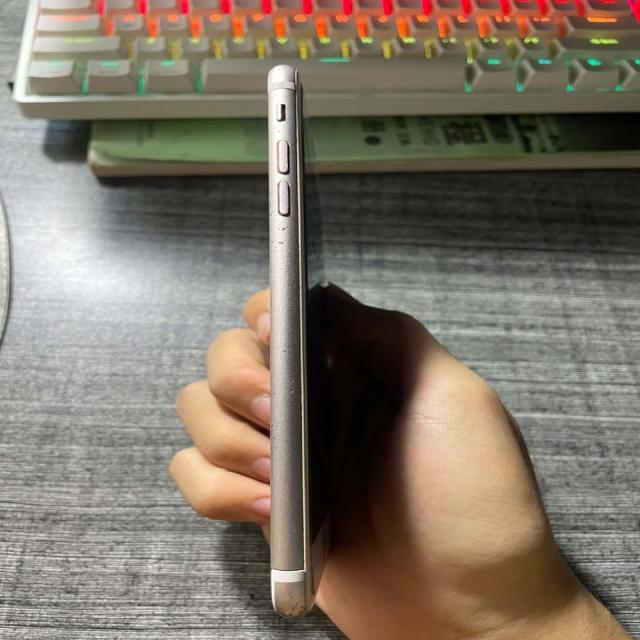scratch: (270, 221, 294, 248), (272, 66, 294, 78), (274, 128, 292, 134), (267, 202, 273, 216), (271, 420, 280, 427), (289, 328, 294, 340), (290, 604, 297, 612), (298, 604, 304, 613), (270, 91, 278, 97), (285, 594, 293, 599), (289, 388, 295, 394), (286, 255, 291, 261), (283, 269, 289, 274), (290, 377, 295, 383), (291, 405, 296, 410), (273, 445, 278, 450), (284, 439, 290, 443), (276, 598, 280, 604), (282, 349, 287, 353), (271, 435, 276, 439), (286, 613, 292, 616), (283, 446, 287, 449), (300, 536, 303, 539)
